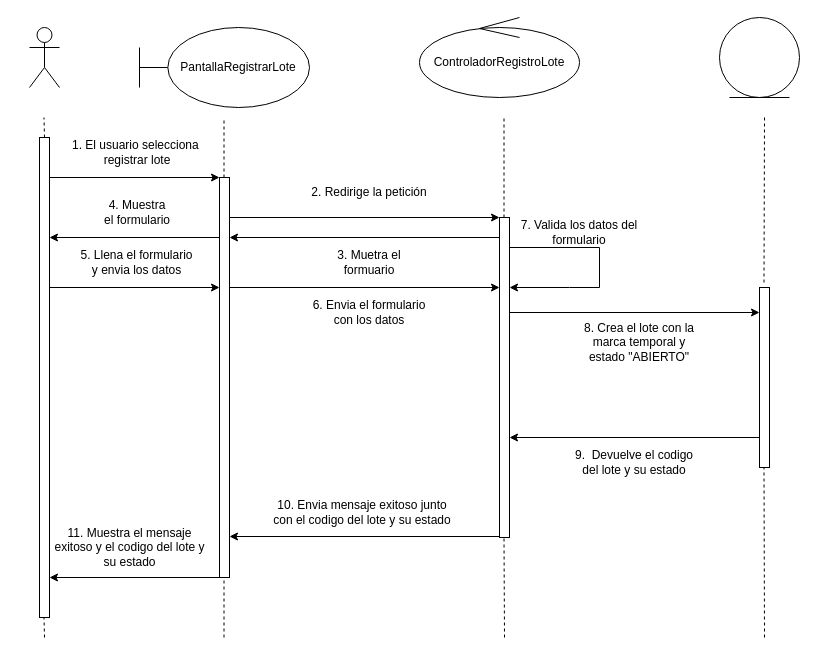
Image size: 817x656. Some labels were removed from this diagram. The box of each missing label's shape, as (x1, y1, x2, y2) in pixels:
Lote: (718, 16, 800, 98)
Piscicultor: (28, 26, 60, 88)
